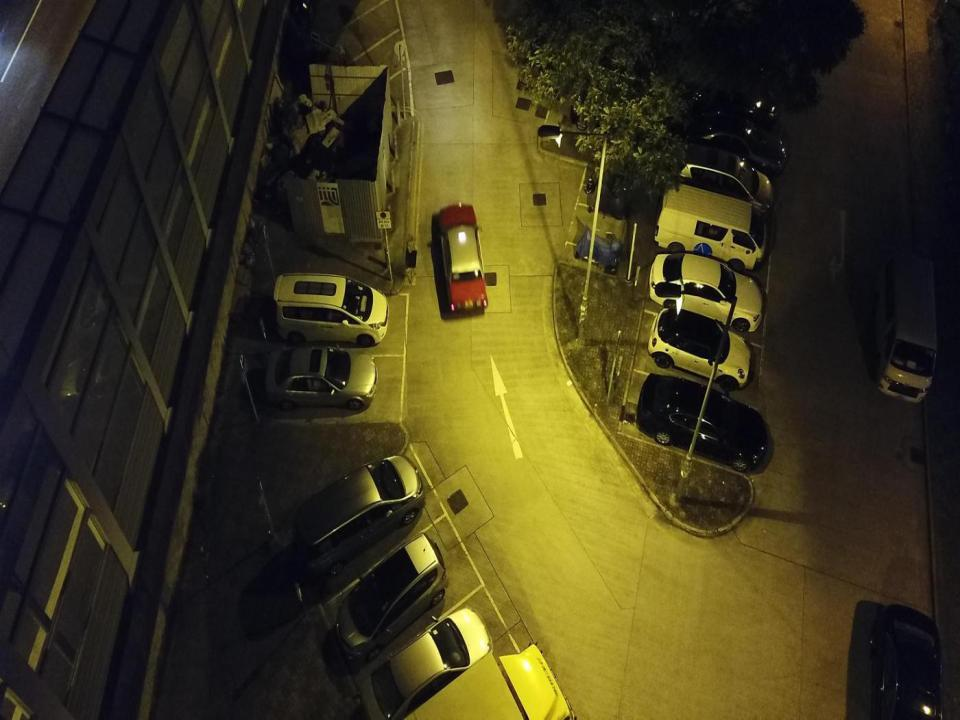car: (360, 606, 493, 719), (336, 532, 448, 663), (636, 371, 770, 473), (869, 601, 947, 719), (648, 253, 764, 331), (648, 307, 752, 391), (668, 140, 773, 216), (263, 343, 378, 411), (681, 113, 788, 178), (438, 203, 488, 311)
truck: (402, 643, 574, 719)
van: (293, 454, 426, 579), (652, 179, 768, 274), (872, 250, 940, 402), (273, 272, 389, 348)
